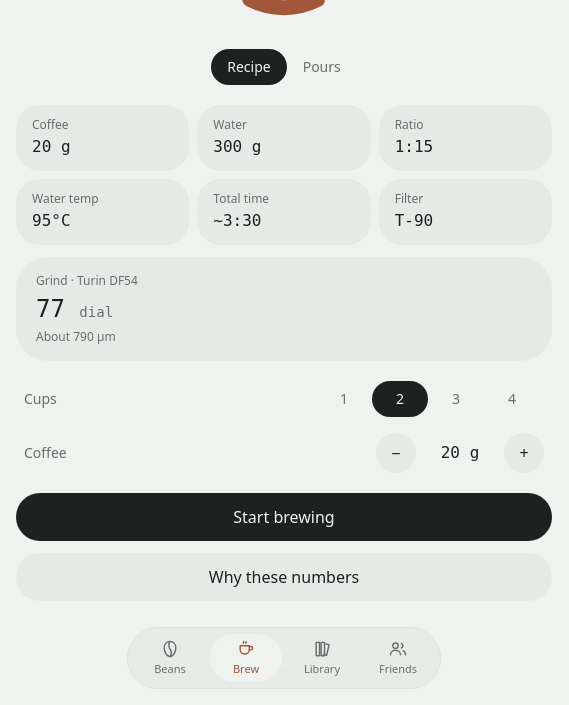
Test: The Pours view › starts at the top, and leaves out the ring and the recipe-only buttons so the actions fit
(page scrolled)
Click the button "Start brewing" at coordinates (284, 517), box [16,493,552,541]
(page scrolled)
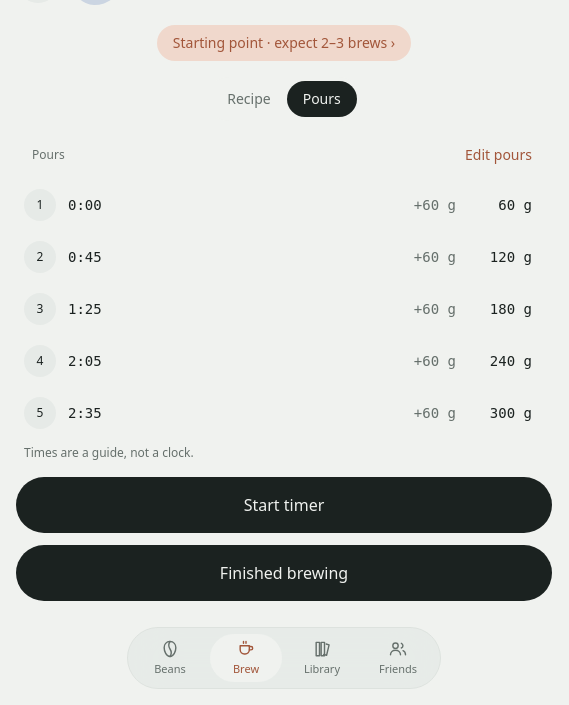
expect the element "Pours" is shown: met
expect the button "Why these numbers" is gone: met
expect the button "Start timer" is shown: met, box [16,477,552,533]
